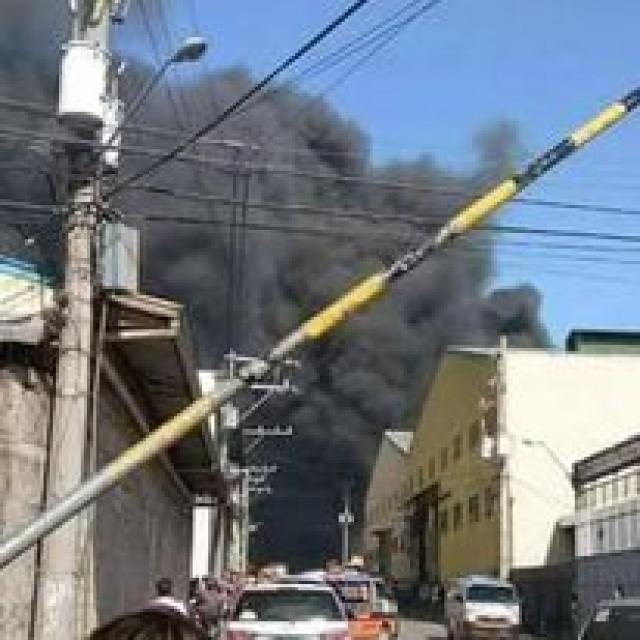Smoke: (140, 76, 400, 266), (281, 361, 437, 460), (0, 34, 49, 219), (192, 262, 296, 338), (426, 257, 530, 327)
